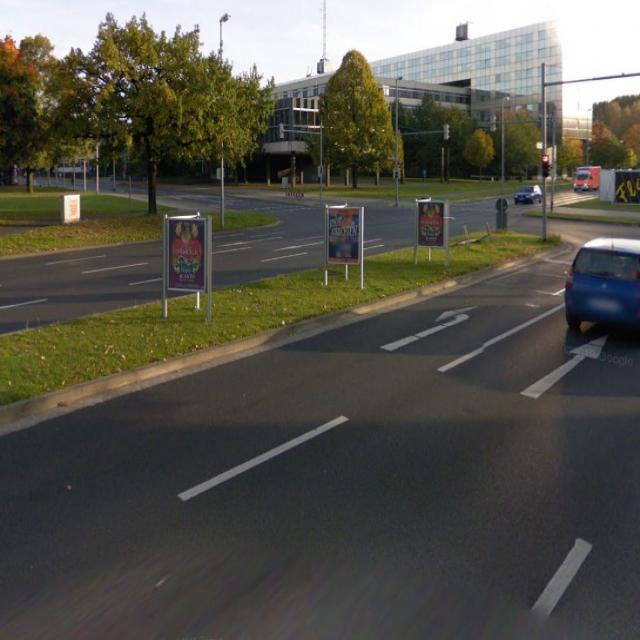Werbetafel frei: (166, 219, 208, 295), (325, 209, 364, 268), (415, 200, 451, 250)
